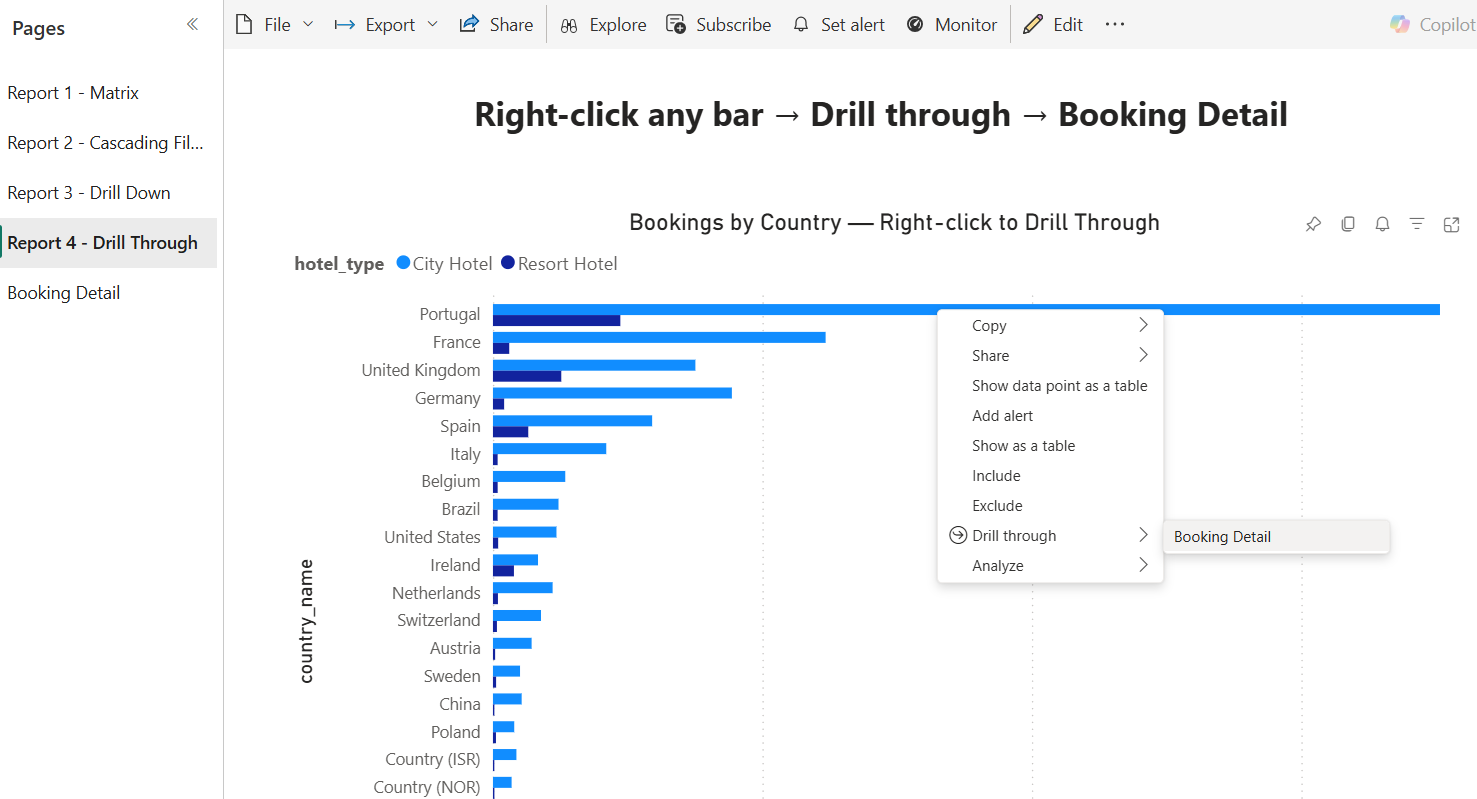

This screenshot's page, from the dashboard's own definition file:
{"tool":"powerbi","page":{"name":"Report 4 - Drill Through","canvas":[1280,720],"ordinal":3},"visuals":[{"type":"clusteredBarChart","title":"Bookings by Country — Right-click to Drill Through","fields":{"Category":["dim_customer.country_name"],"Y":["Sum(fact_bookings.booking_id)"],"Series":["dim_hotel.hotel_type"]},"box":[208.3,106.7,883.3,581.7],"z":0},{"type":"textbox","box":[260,16.7,760,48.3],"z":1}]}

Visuals, with their boxes on the page's 1280x720 design canvas (x1, y1, x2, y2). These are canvas units, not pixel positions in the 1477x799 screenshot, which may show the page scaled, cropped or inside an application window:
"Bookings by Country — Right-click to Drill Through" clusteredBarChart: (208,107,1092,688)
textbox: (260,17,1020,65)
